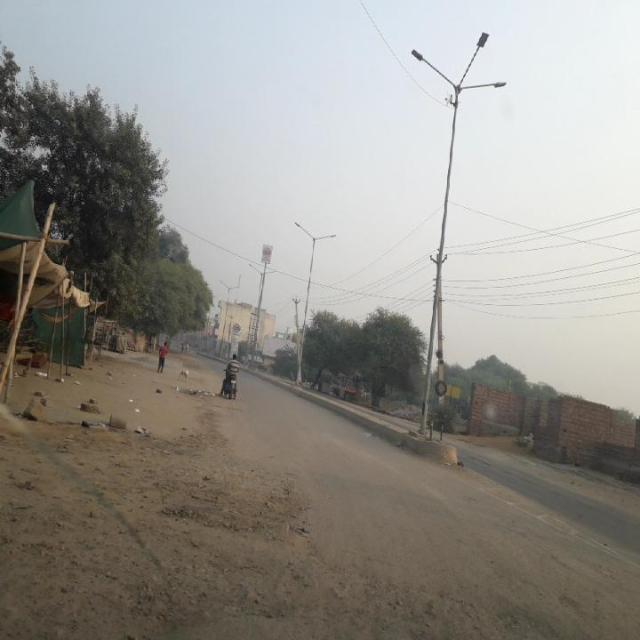Surface Erosion: (1, 312, 613, 624)
